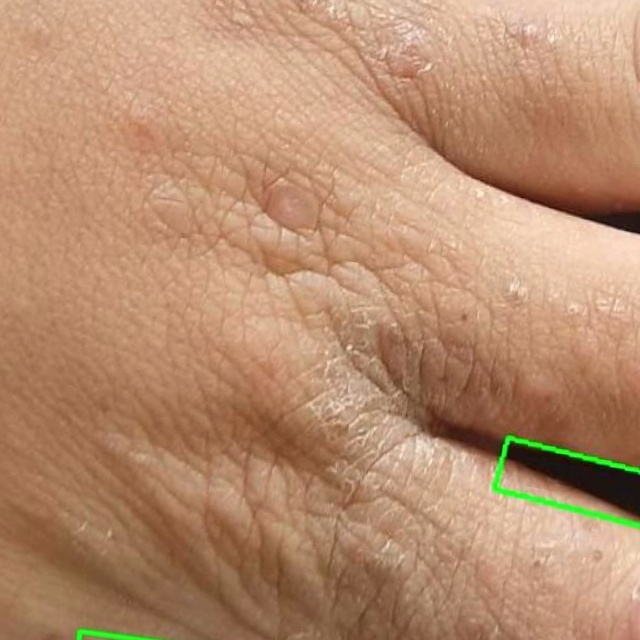Scabies: (494, 438, 639, 527)
